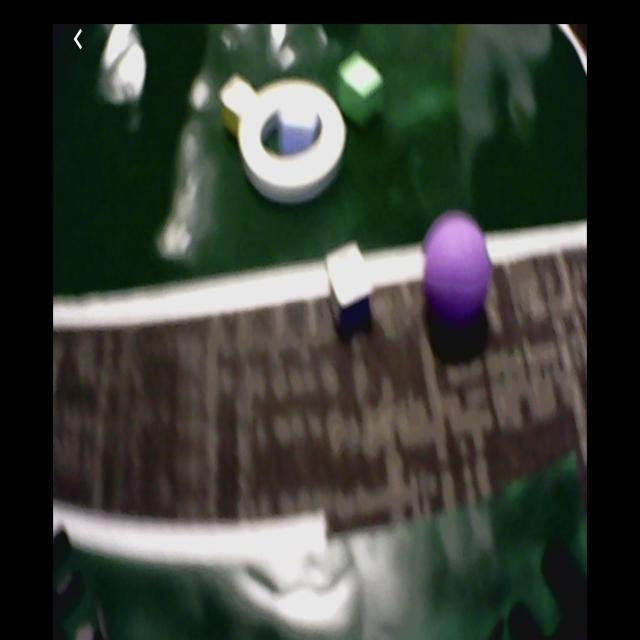ball: (425, 213, 490, 323)
